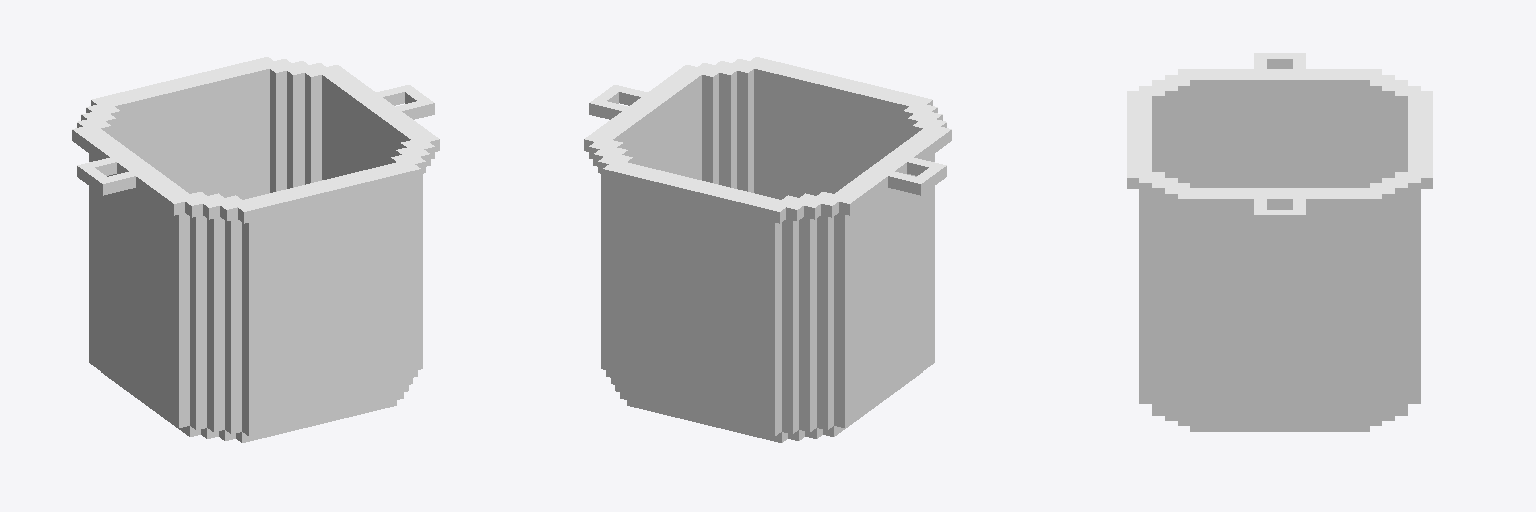
File: Cauldron01.obj
3 renders of one model, left to right at view 1: azimuth 30°, elevation 25°; view 2: azimuth 150°, elevation 25°; view 3: azimuth 270°, elevation 25°, orthographic.
Visible parts, largest first — view 1: object 1; view 2: object 1; view 3: object 1.
Part boxes in pixels (x1,y1,x2,y2): object 1: (72,57,439,442); object 1: (584,57,951,442); object 1: (1127,53,1432,431).
Bounding box in the file's own units: 3 × 2.1 × 2.4.